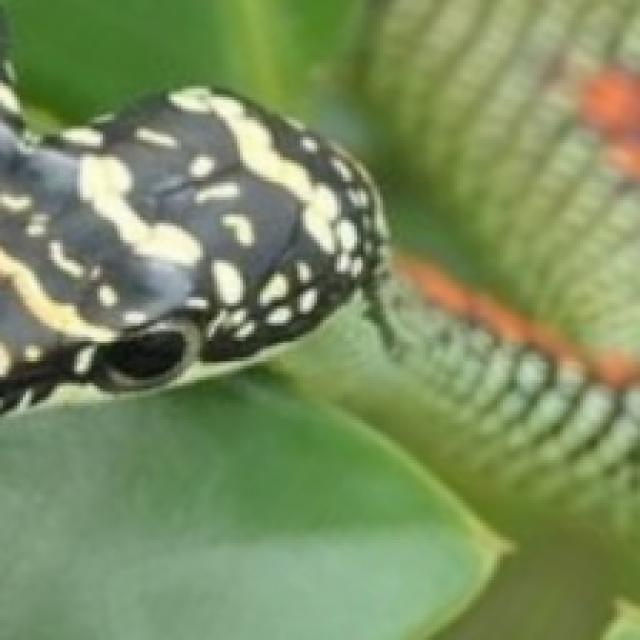paradise tree snake: (3, 283, 637, 637), (3, 0, 637, 354)
